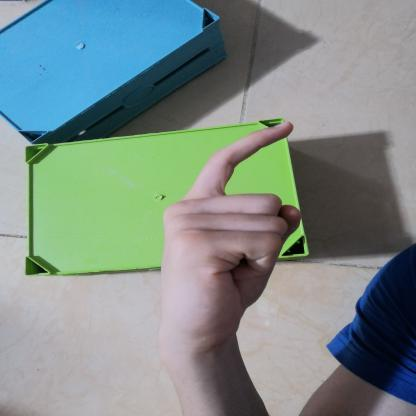RAA: (142, 112, 309, 360)
